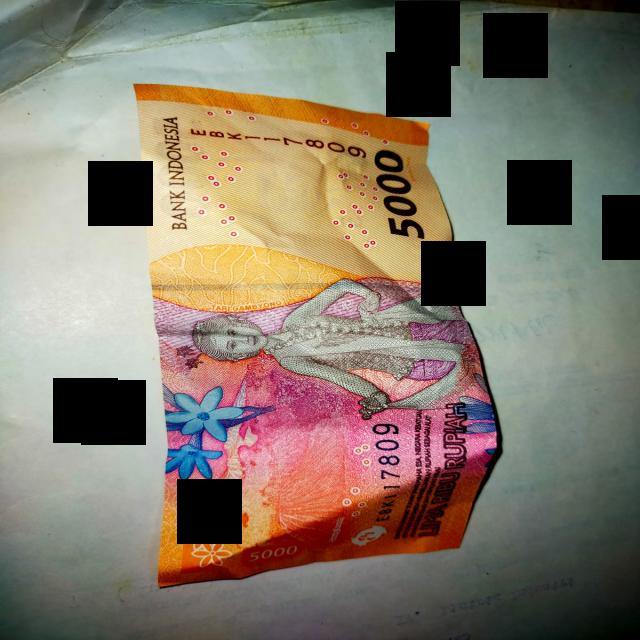lima ribu rupiah: (135, 85, 498, 586)
